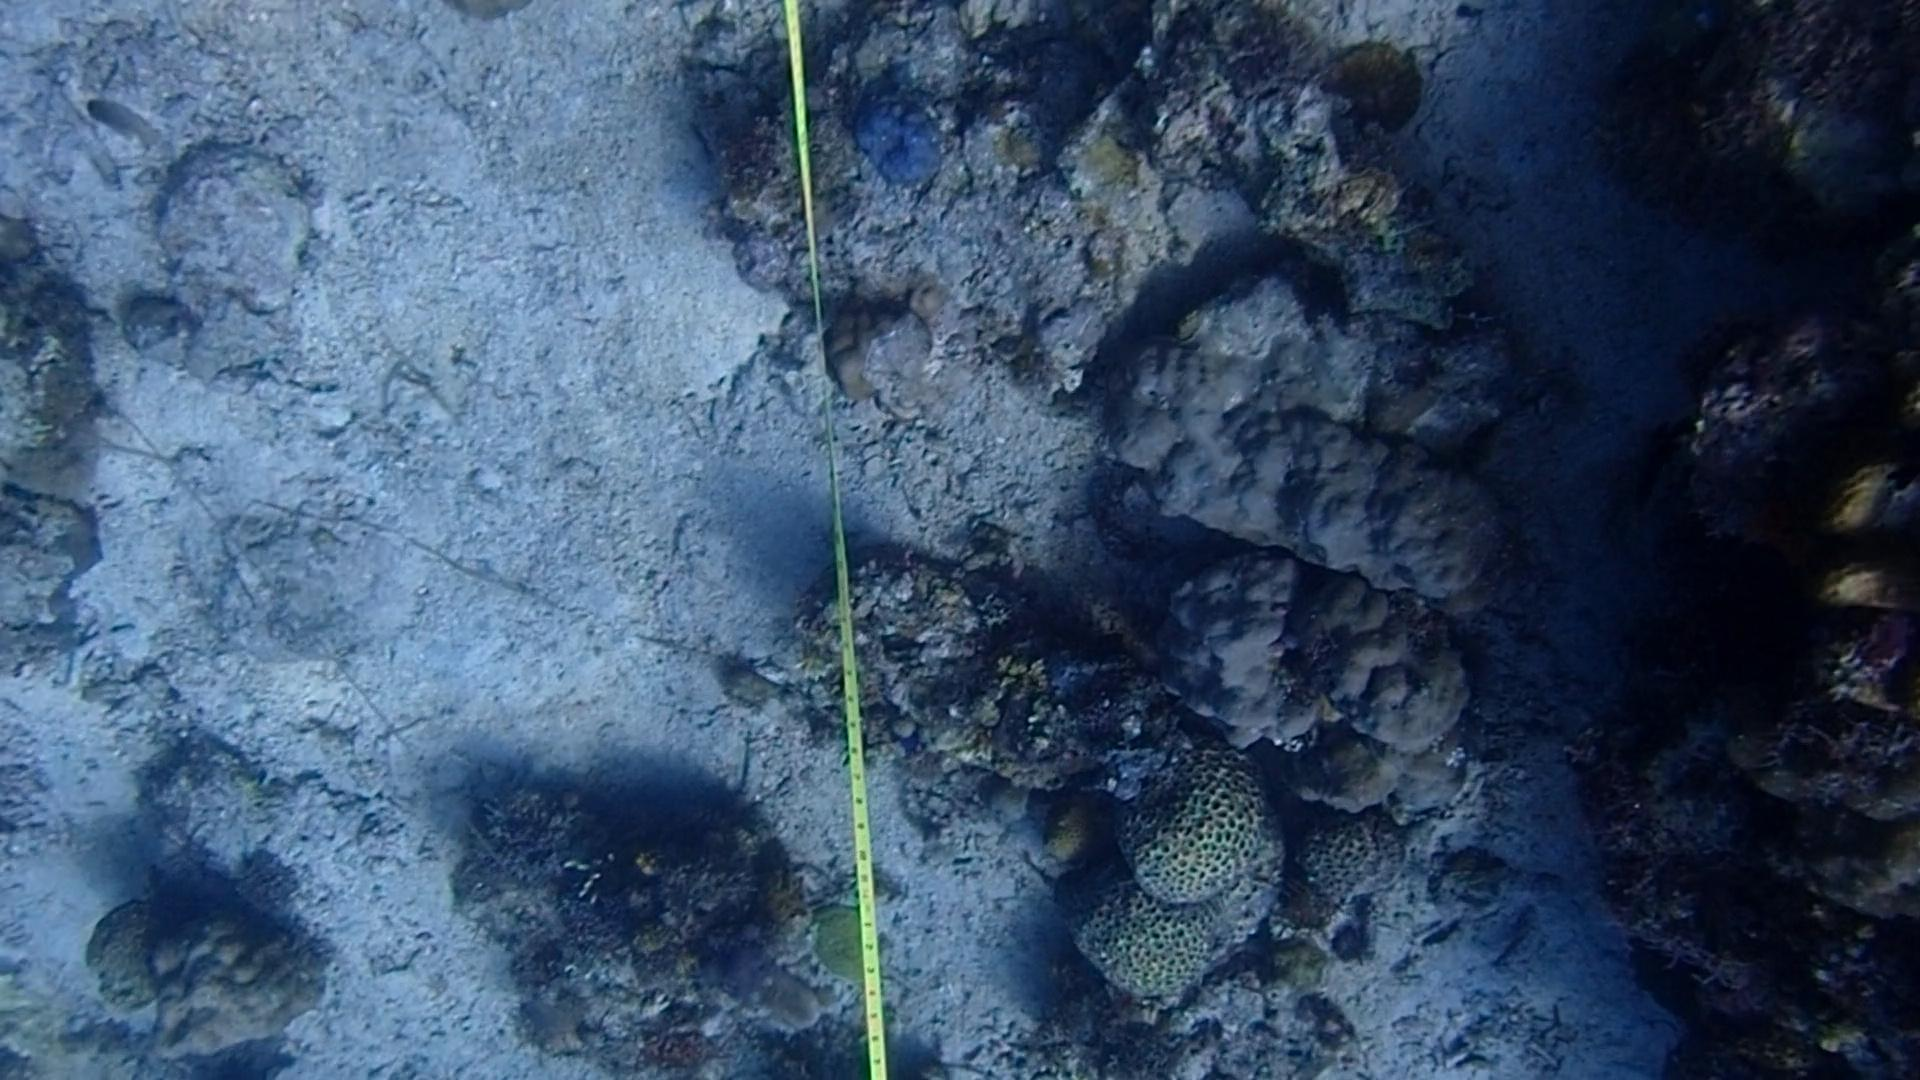Light Fish: (79, 96, 165, 167)
